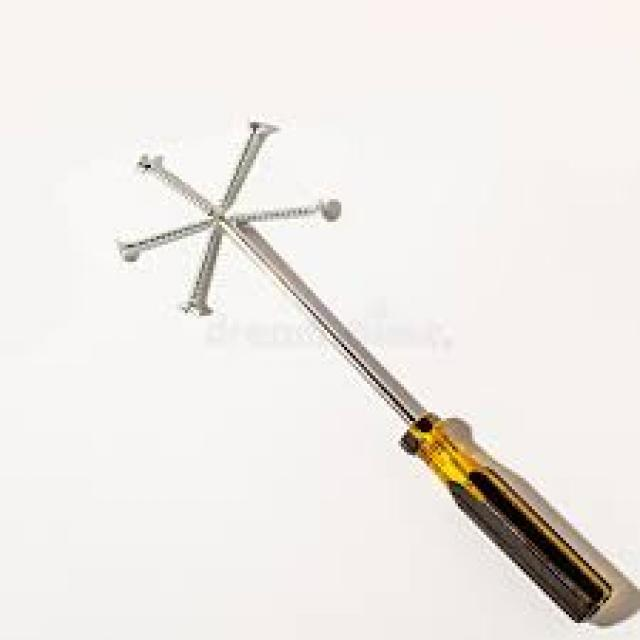screwdriver: (213, 212, 614, 624)
